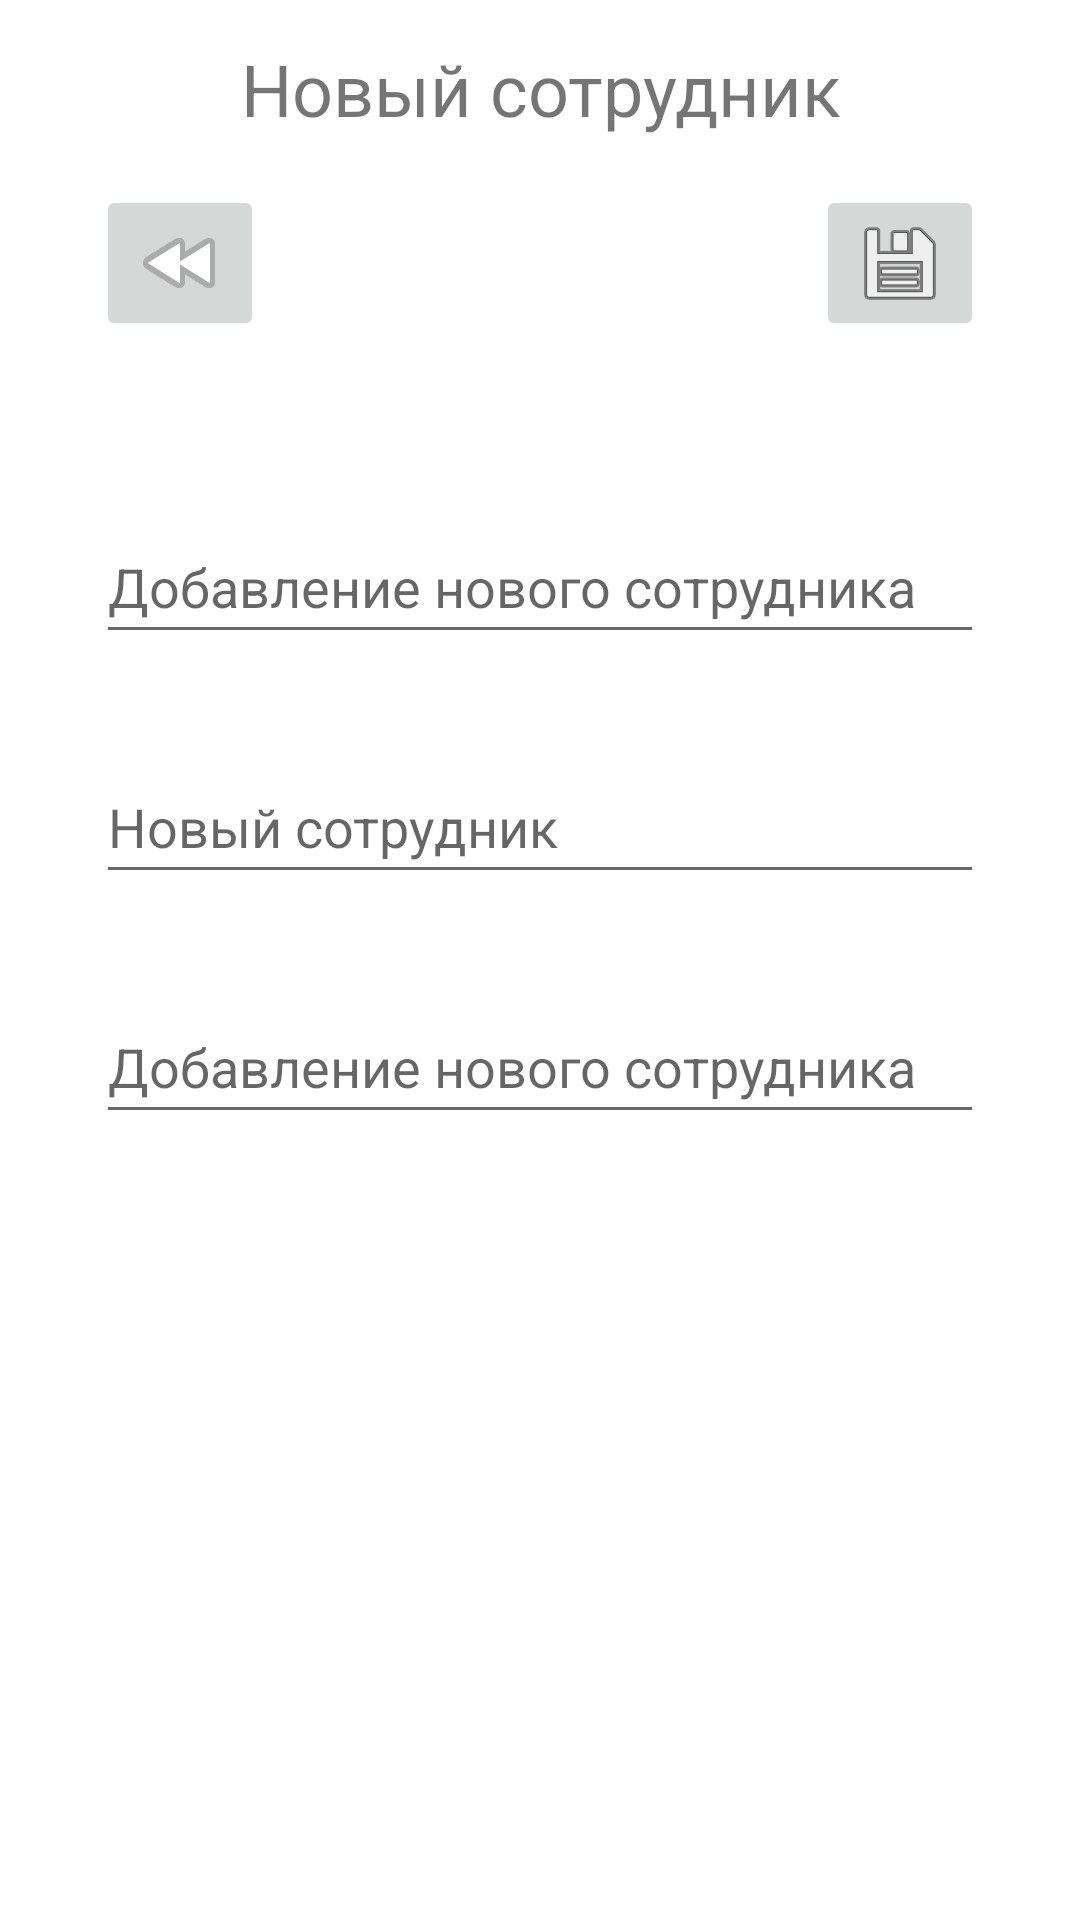

Named icons in this screenshot (1080x1920) and their centers, (x=x, y=y):
rew: (x=180, y=263)
save: (x=900, y=263)
